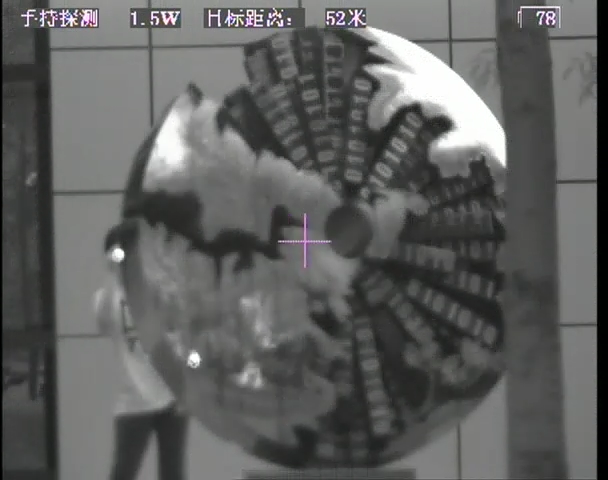my: (110, 246, 127, 263)
